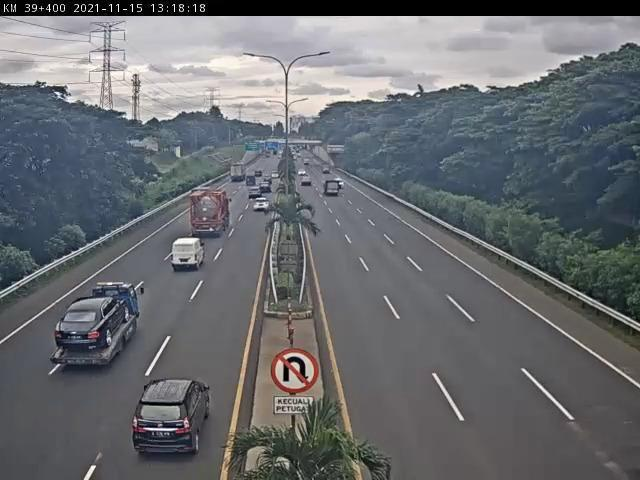bus: (172, 238, 208, 270)
car: (132, 375, 216, 456), (253, 197, 271, 213)
truck: (53, 280, 141, 370), (191, 190, 232, 240)
